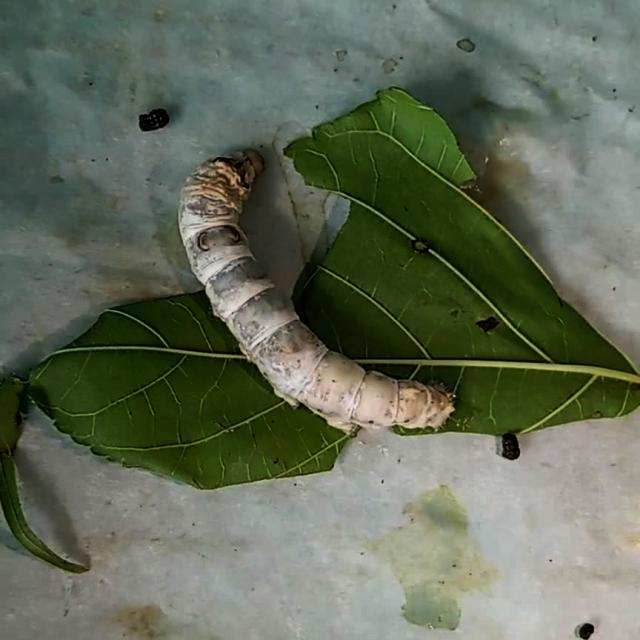Grasserie: (148, 132, 472, 451)
